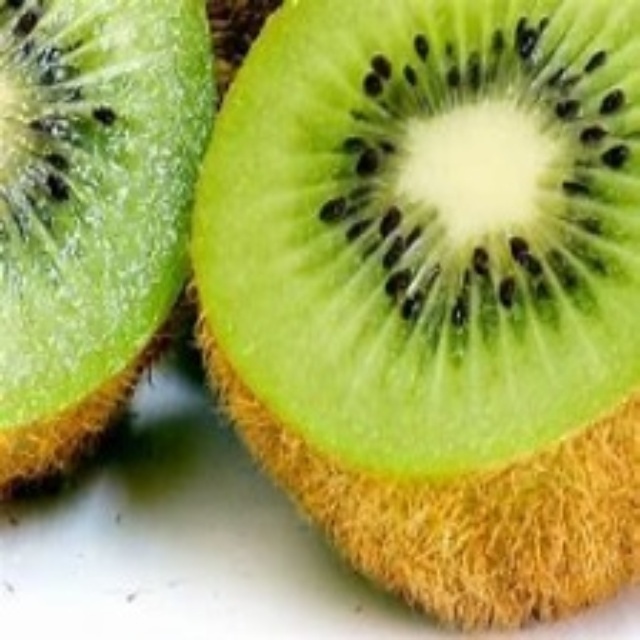kiwi: (186, 1, 639, 635), (3, 3, 211, 496)
